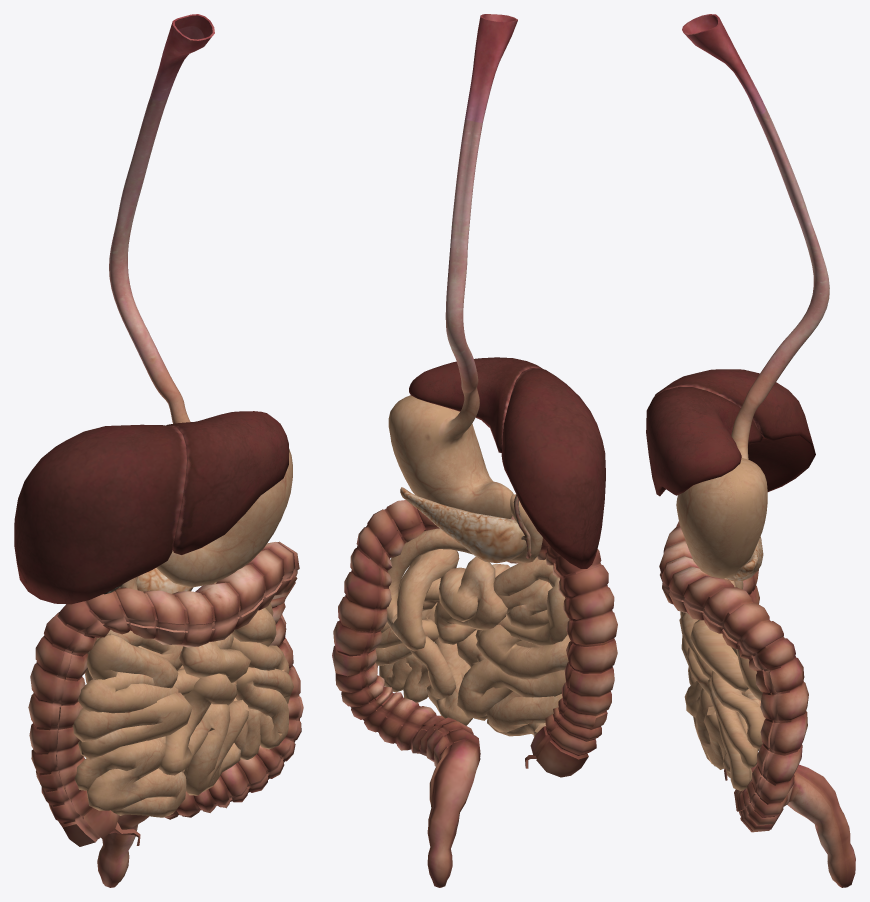
Rendered from model3dpencernaan.fbx.
3 renders of one model, left to right at view 1: azimuth 30°, elevation 25°; view 2: azimuth 150°, elevation 25°; view 3: azimuth 270°, elevation 25°, orthographic. The views are drawn at different scales.
Visible parts, largest first — view 1: DigestiveSystem001_Digestive_System_0; view 2: DigestiveSystem001_Digestive_System_0; view 3: DigestiveSystem001_Digestive_System_0.
Part boxes in pixels (x1,y1,x2,y2): DigestiveSystem001_Digestive_System_0: (14,14,303,887); DigestiveSystem001_Digestive_System_0: (332,14,617,887); DigestiveSystem001_Digestive_System_0: (646,14,855,887).
Size of the model in its own units: 2258 by 6772 by 1480.
Materials: 1 (1 with a texture image).
